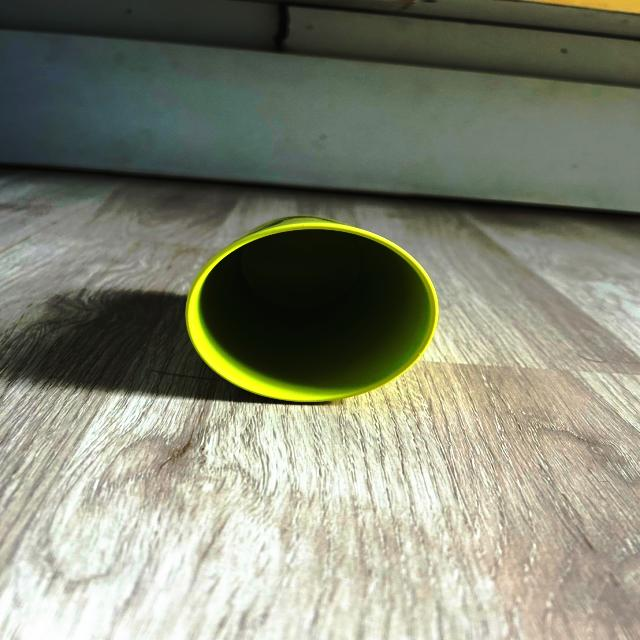WaterGlass: (185, 218, 437, 402)
